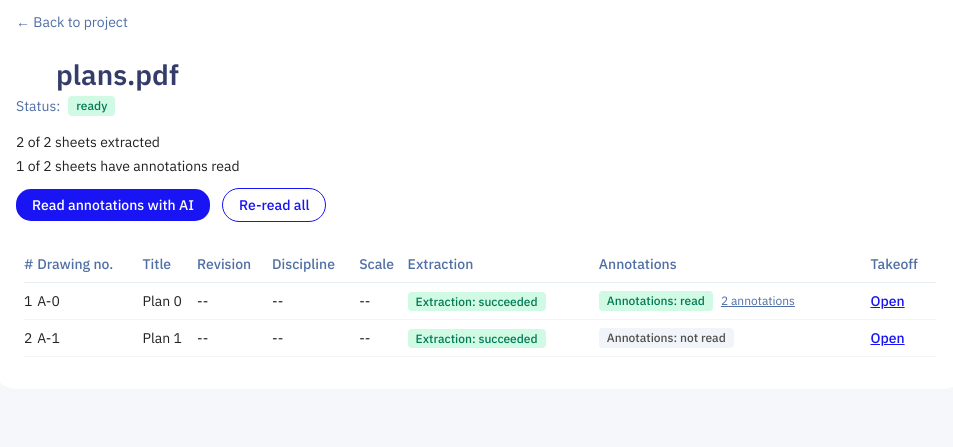
Test case: SheetIndexPage annotations › expands the AI-read annotations for a sheet
Expected: the text "Slab 200mm" is not shown
Click the button "2 annotations" at (758, 301), box [721,293,795,309]
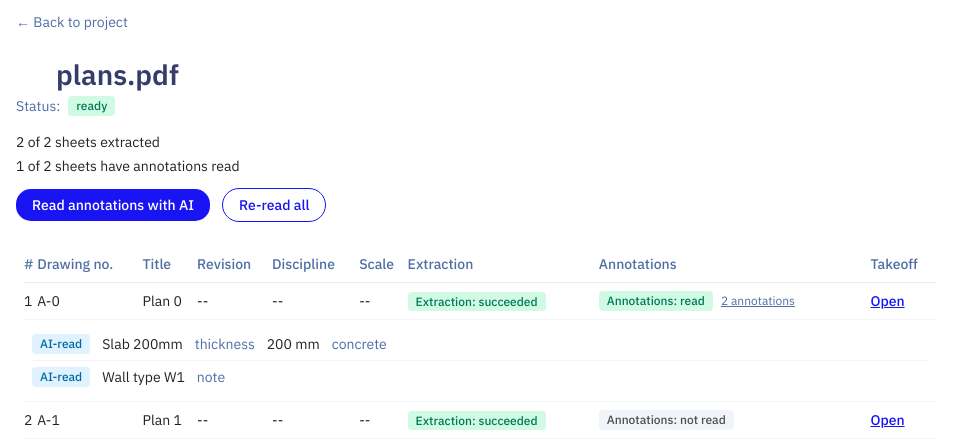
Expected: the text "Slab 200mm" is shown, [102,334,183,354]
Expected: the text "200 mm" is shown, [267,334,320,354]
Expected: the text "concrete" is shown, [332,334,387,354]
Click the button "2 annotations" at (758, 301), box [721,293,795,309]
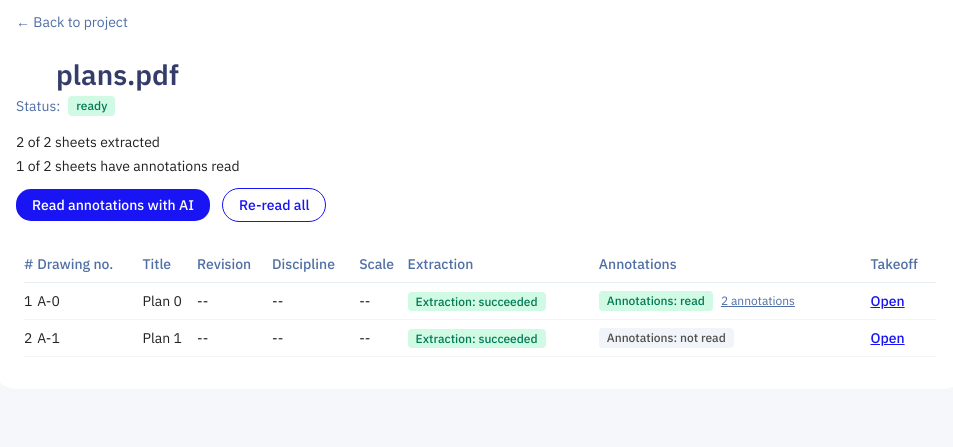
Expected: the text "Slab 200mm" is gone
